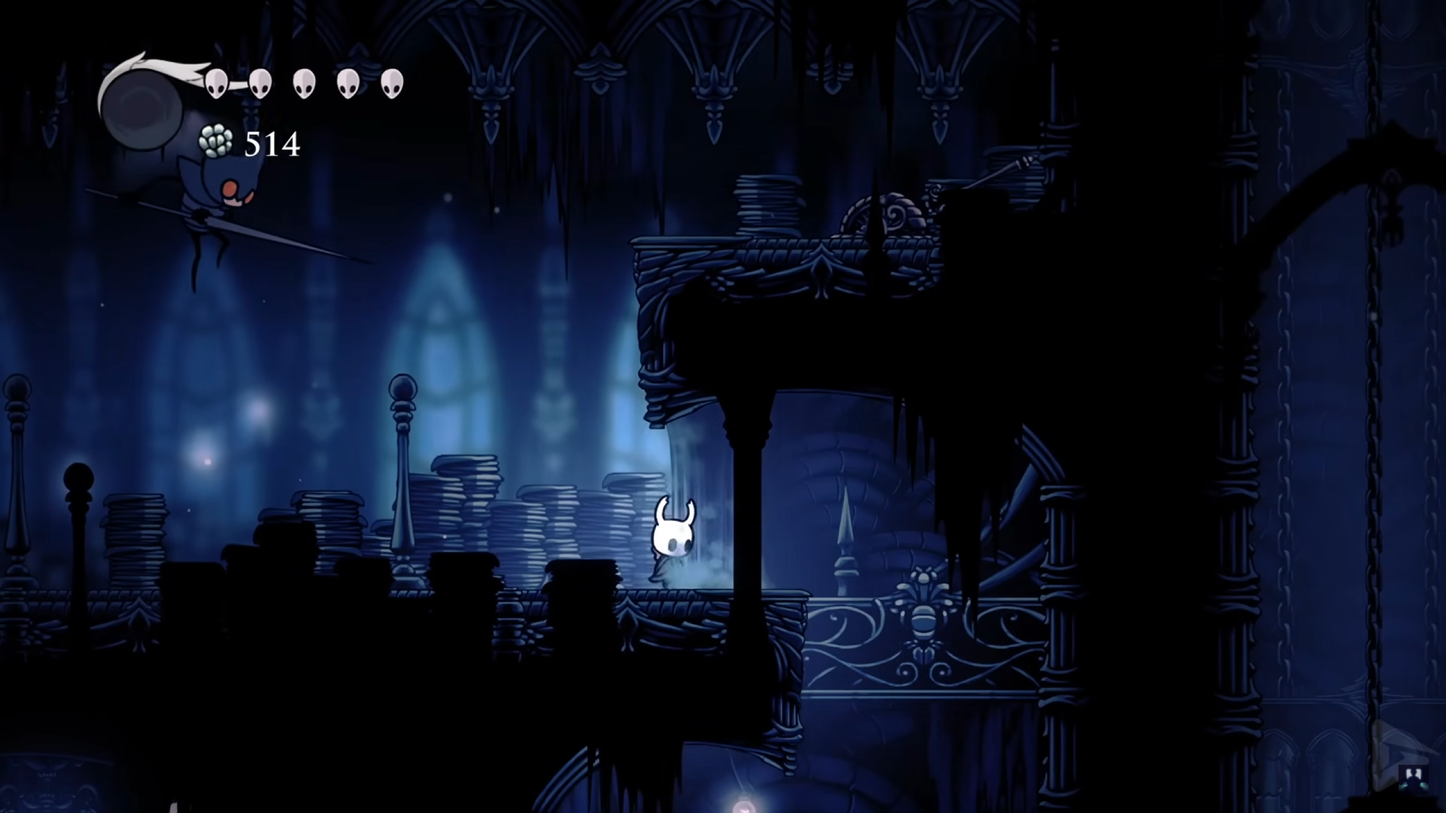HK: (645, 492, 702, 585)
